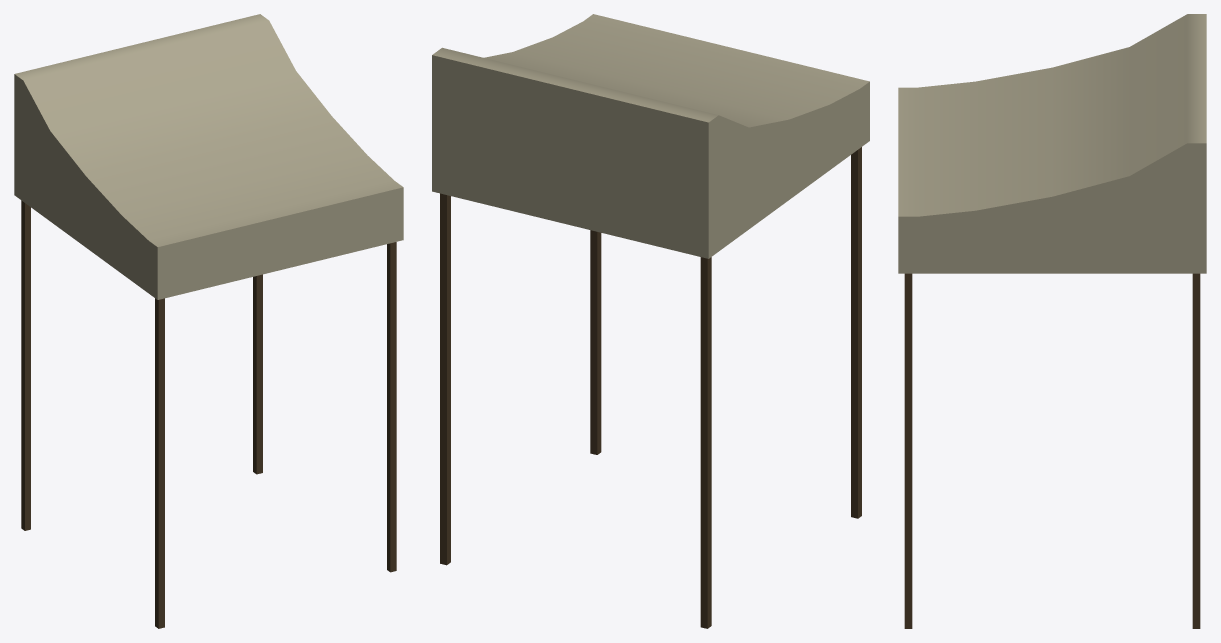
File: PS_Tarp.fbx
3 views of the same model, side by side, from view 1: azimuth 30°, elevation 25°; view 2: azimuth 150°, elevation 25°; view 3: azimuth 270°, elevation 25° (orthographic). The views are drawn at different scales.
Parts seen in each view (by area): view 1: PS_Tarp; view 2: PS_Tarp; view 3: PS_Tarp.
Boxes of the visible parts, left/top/right/bottom form: PS_Tarp: left=14, top=14, right=403, bottom=628; PS_Tarp: left=432, top=14, right=869, bottom=628; PS_Tarp: left=898, top=14, right=1206, bottom=628.
Bounding box in the file's own units: 2.12 × 3.74 × 2.14.
